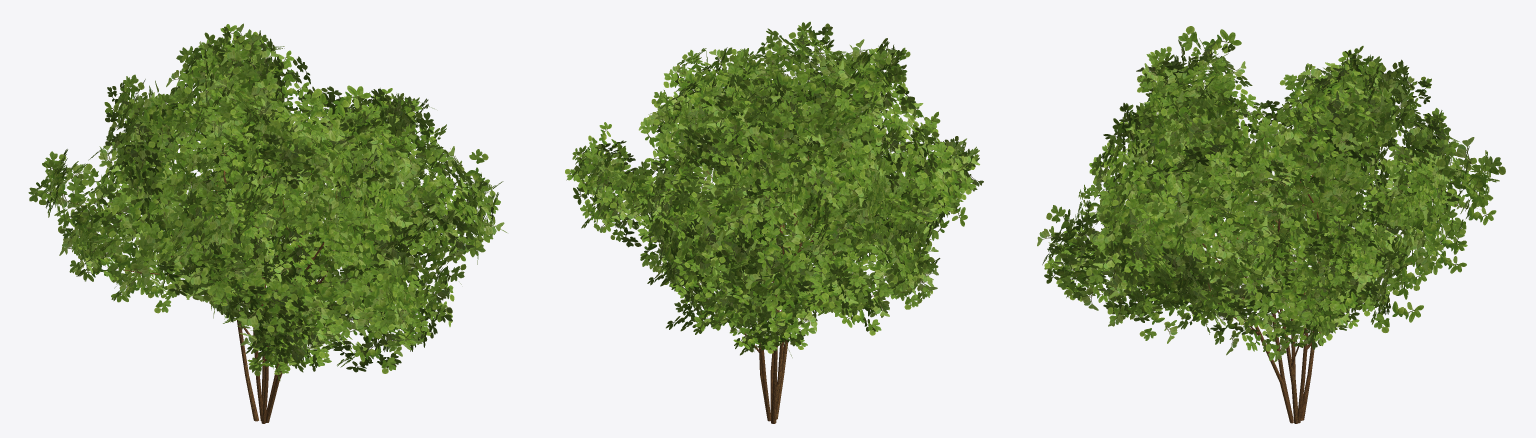
The model's file is Bush_01.FBX.
3 views of the same model, side by side, from view 1: azimuth 30°, elevation 25°; view 2: azimuth 150°, elevation 25°; view 3: azimuth 270°, elevation 25° (orthographic). The views are drawn at different scales.
Parts seen in each view (by area): view 1: Bush_01; view 2: Bush_01; view 3: Bush_01.
Boxes of the visible parts, bbox=[...] form: Bush_01: bbox=[28, 23, 506, 423]; Bush_01: bbox=[565, 21, 983, 423]; Bush_01: bbox=[1037, 26, 1505, 423].
Size of what is drawn, in the model's own units: 145 by 137 by 164.
